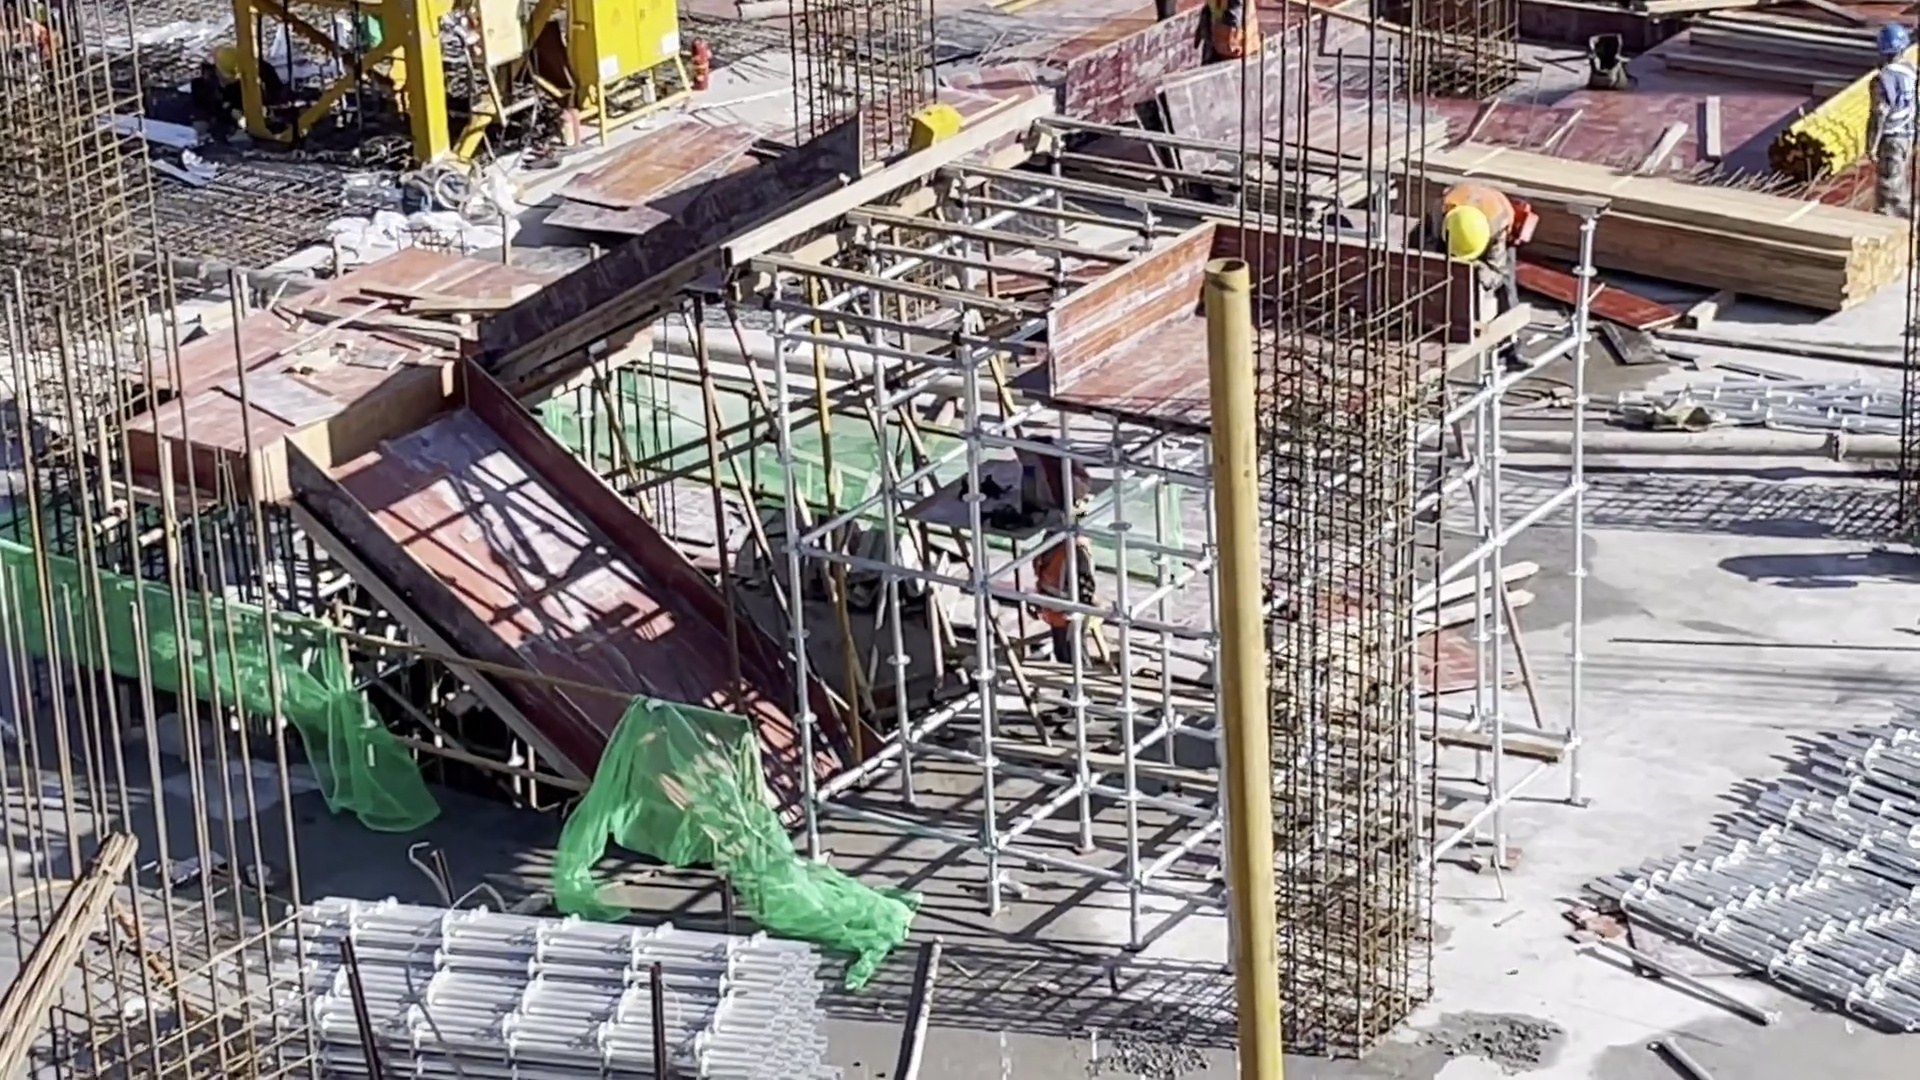helmet: (1439, 208, 1492, 261), (215, 47, 247, 82), (1885, 23, 1910, 60)
person: (1428, 175, 1540, 376), (1864, 30, 1920, 230), (1040, 527, 1104, 665), (196, 38, 284, 131), (1196, 4, 1267, 72)
vest: (1041, 547, 1094, 624), (1436, 176, 1514, 224), (1874, 68, 1915, 149), (1209, 10, 1257, 61)
